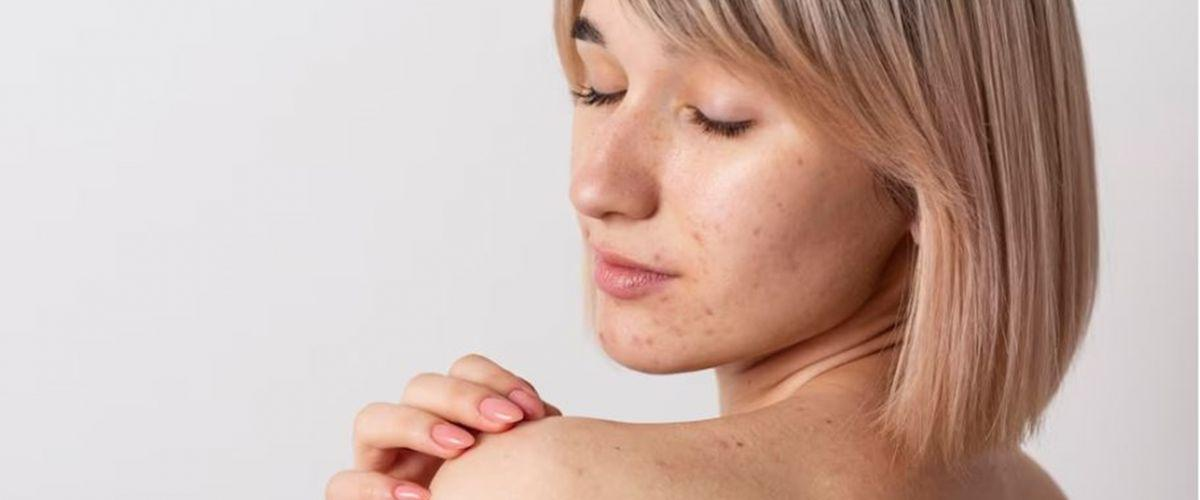Oily-Skin: (574, 86, 668, 222), (691, 141, 805, 213)
